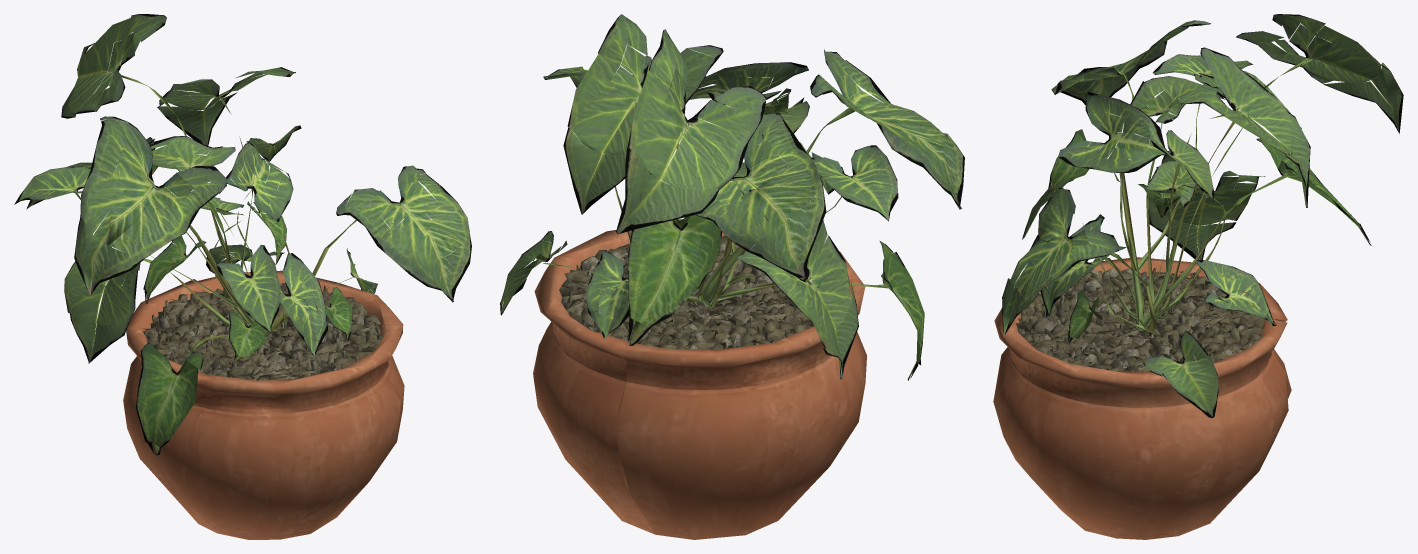
Rendered from potted_plant_02.glb.
The picture shows the model from 3 angles, left to right: view 1: azimuth 30°, elevation 25°; view 2: azimuth 150°, elevation 25°; view 3: azimuth 270°, elevation 25°; orthographic projection. The views are drawn at different scales.
Parts seen in each view (by area): view 1: potted_plant_02_pot; view 2: potted_plant_02_pot; view 3: potted_plant_02_pot.
Part boxes in pixels (box(x1,y1,x2,y2)): potted_plant_02_pot: box(14, 14, 471, 539); potted_plant_02_pot: box(500, 14, 964, 539); potted_plant_02_pot: box(993, 14, 1403, 539).
Bounding box in the file's own units: 0.7009 × 0.8419 × 0.6578.
2 materials, 2 textured.
